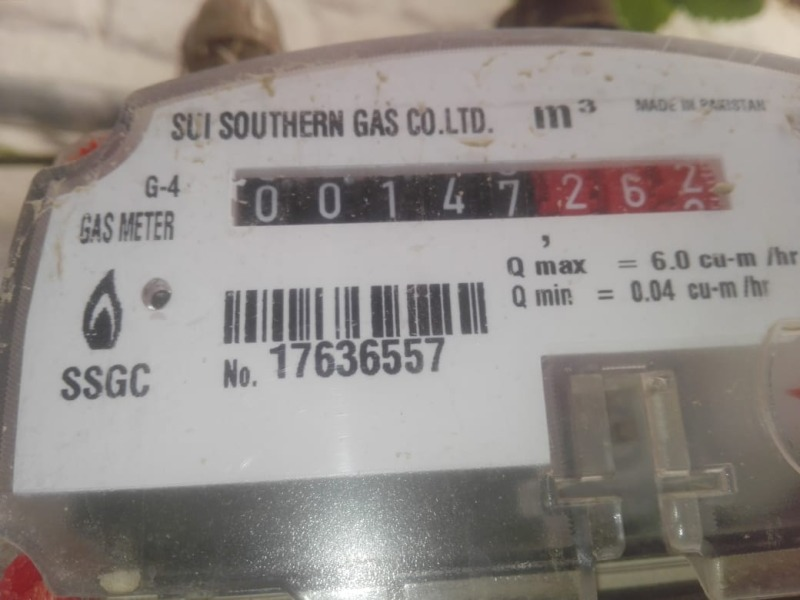ssgc: (224, 155, 736, 224)
